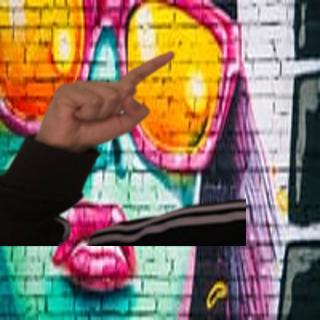WHY: (35, 46, 178, 150)
